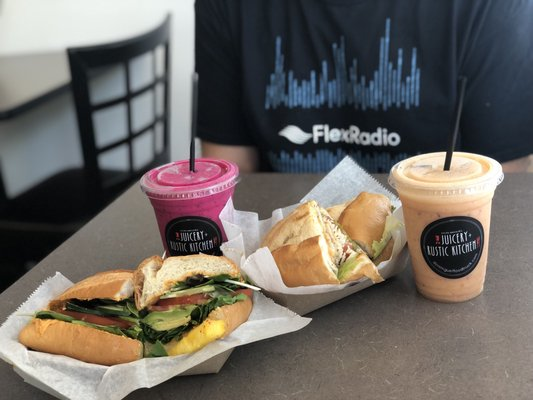pizza: (389, 149, 504, 304), (141, 156, 240, 259)
soup: (133, 253, 258, 356), (18, 267, 143, 365), (257, 199, 384, 288)
